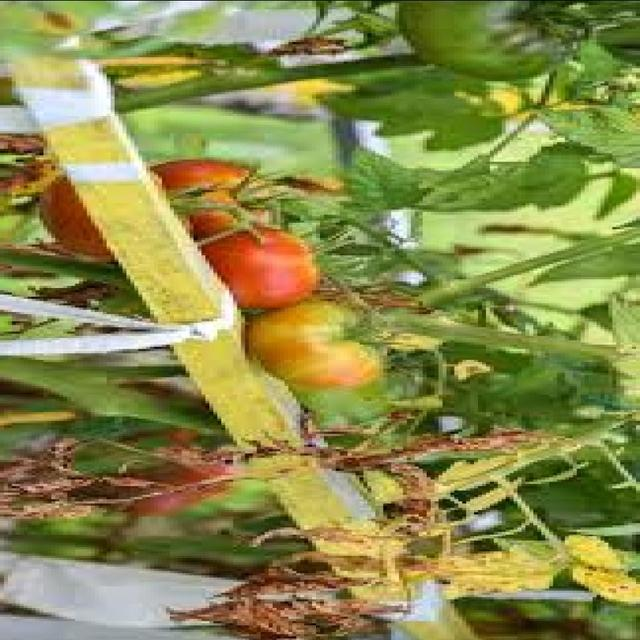Spotted wilt Virus Fruit: (76, 52, 211, 228)
